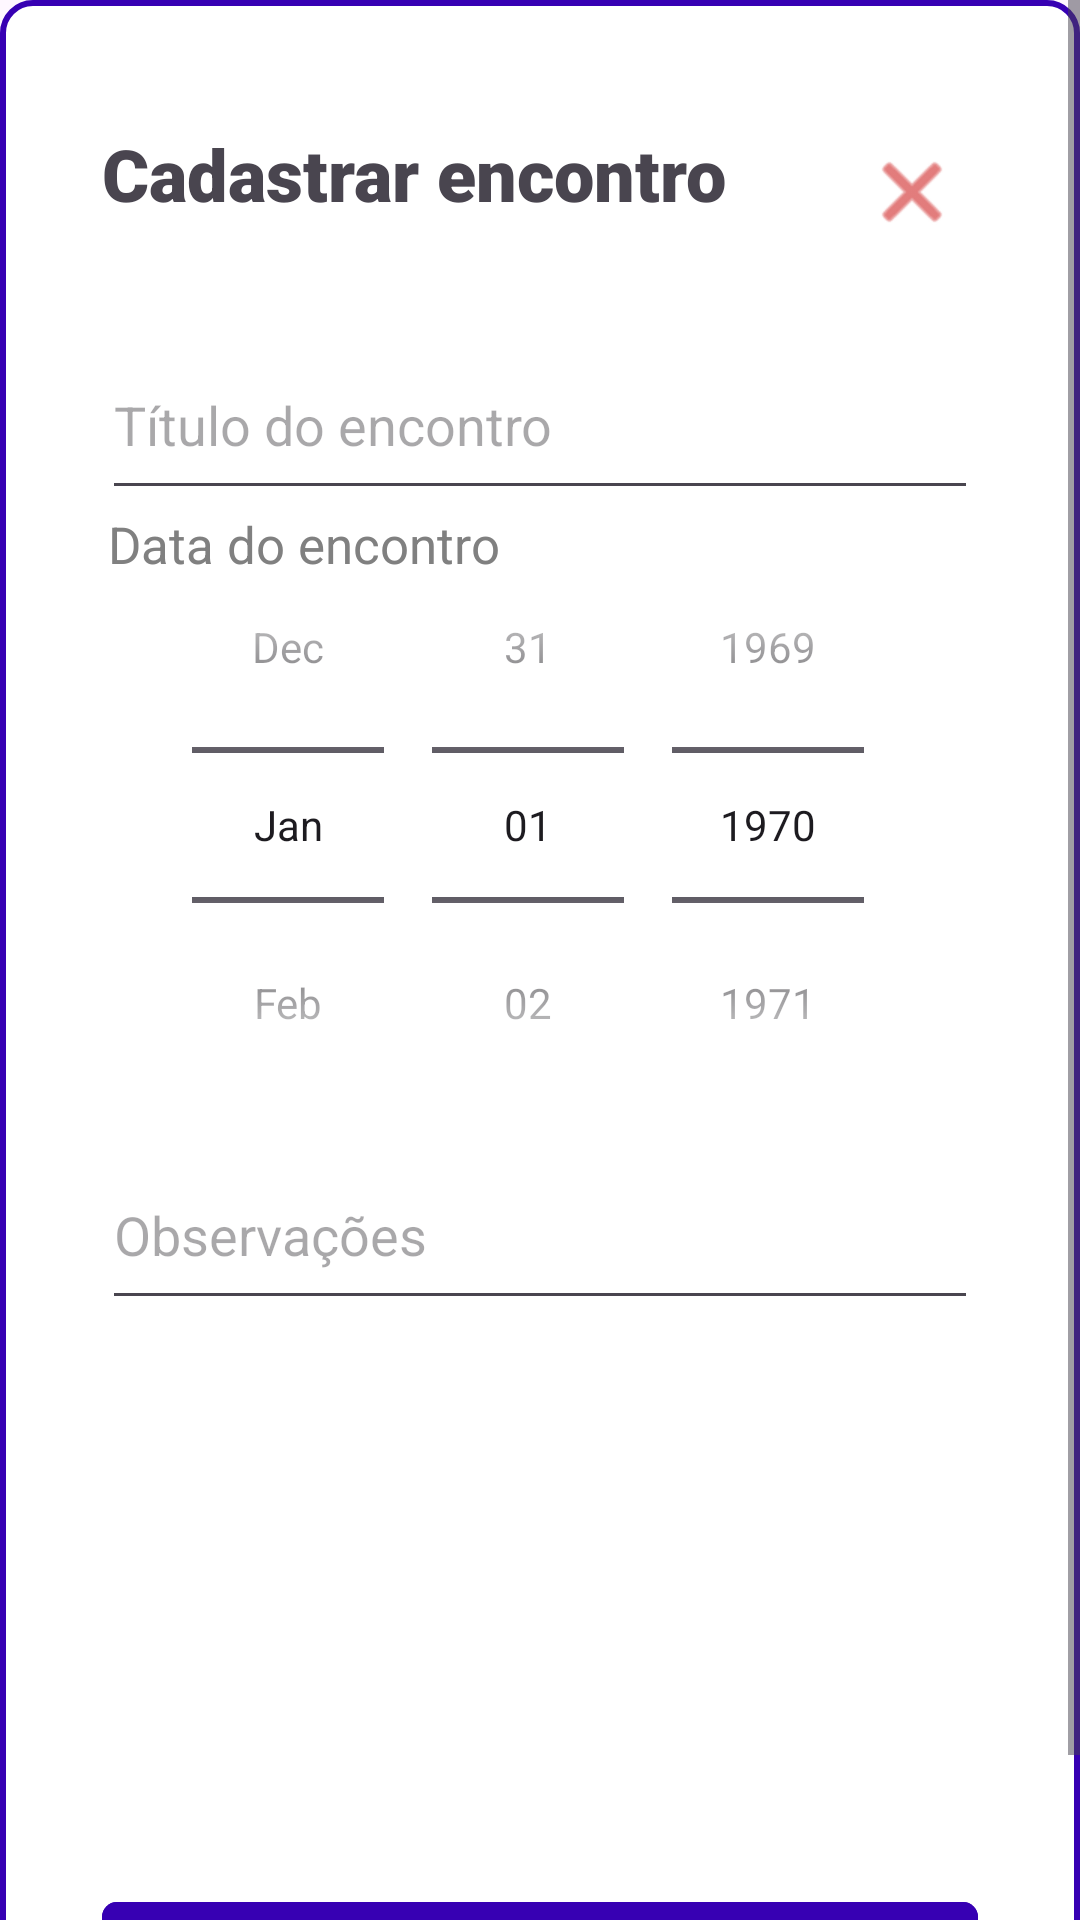

Named icons in this screenshot (1080x1920) and their centers, (x=x, y=y):
close clear cancel: (x=912, y=192)
